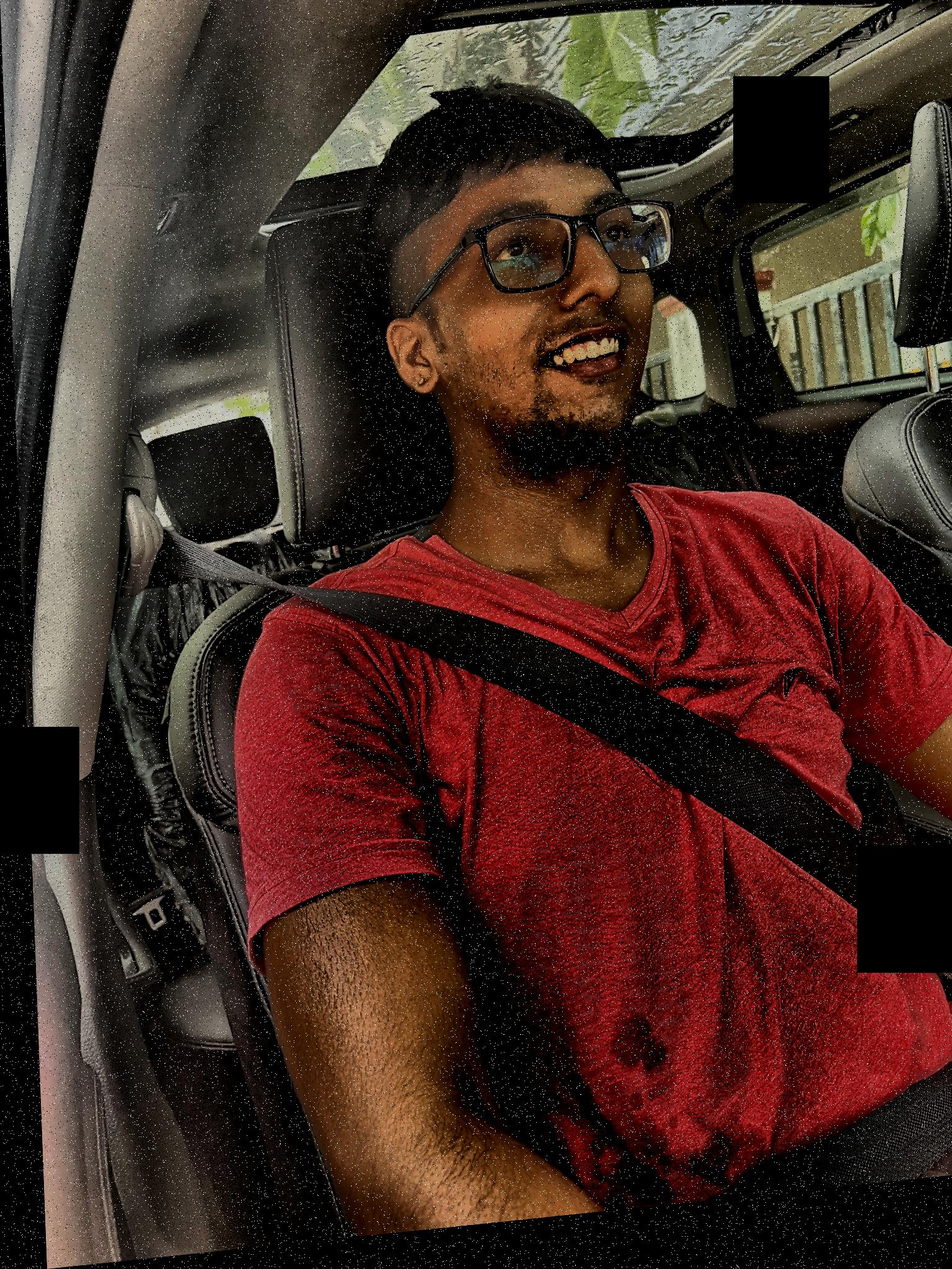seatbelt: (119, 444, 952, 1222)
